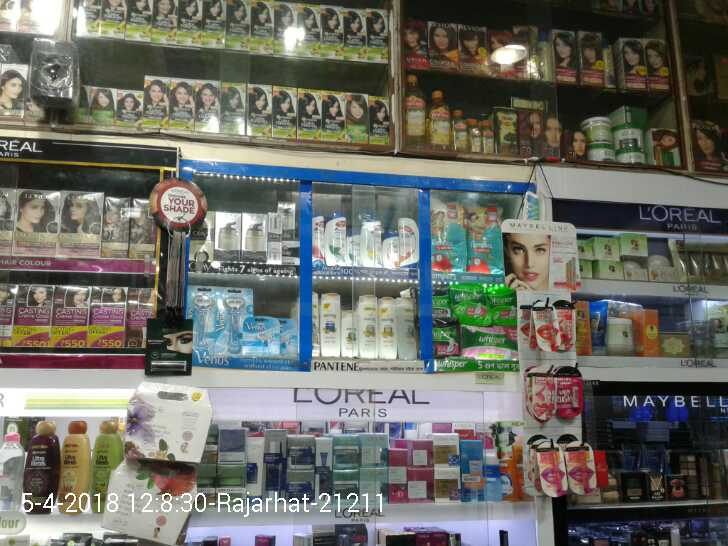venus: (194, 286, 221, 352), (223, 288, 244, 353), (245, 318, 279, 353), (281, 318, 298, 355)
